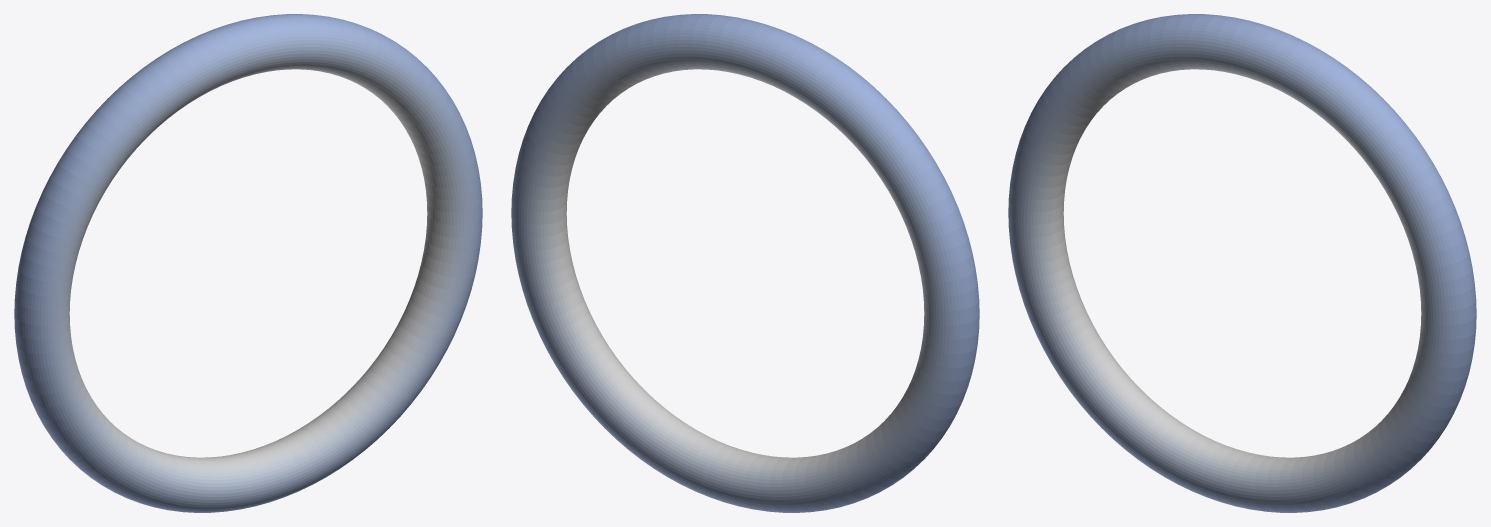
The picture shows the model from 3 angles, left to right: view 1: azimuth 30°, elevation 25°; view 2: azimuth 150°, elevation 25°; view 3: azimuth 330°, elevation 25°; orthographic projection.
Visible parts, largest first — view 1: world; view 2: world; view 3: world.
Boxes of the visible parts, x1=… form: world: x1=14, y1=14, x2=482, y2=512; world: x1=511, y1=14, x2=979, y2=512; world: x1=1008, y1=14, x2=1476, y2=512.
Bounding box in the file's own units: 32 × 32 × 3.33.
